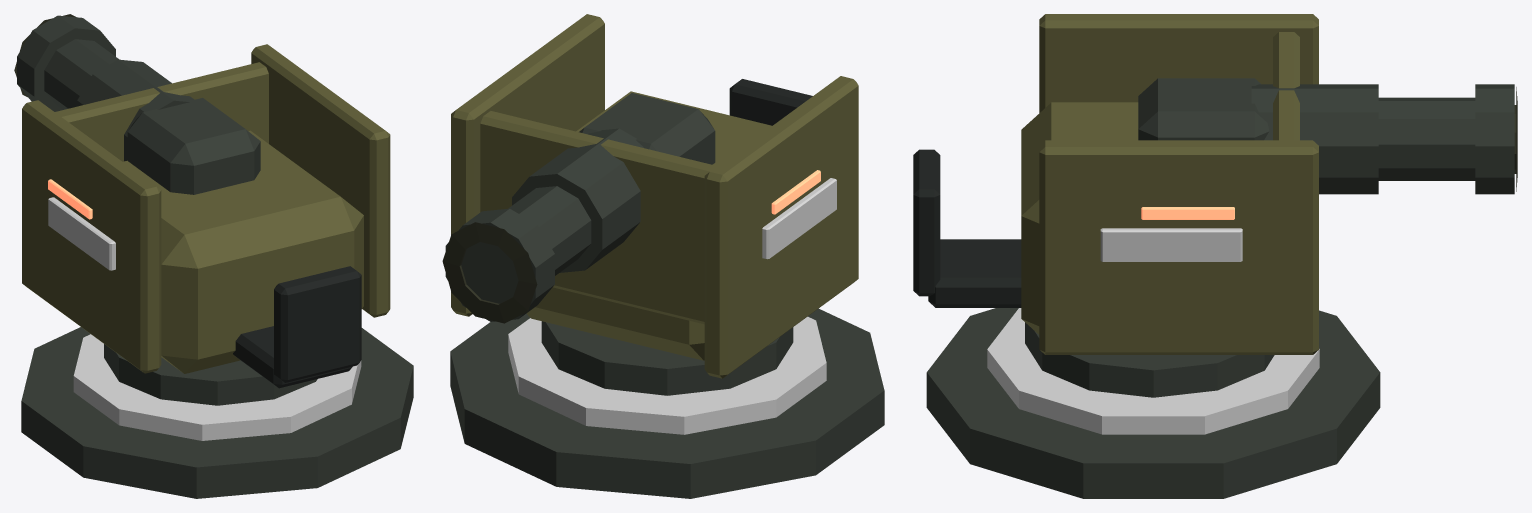
File: cannon.glb
3 views of the same model, side by side, from view 1: azimuth 30°, elevation 25°; view 2: azimuth 150°, elevation 25°; view 3: azimuth 270°, elevation 25° (orthographic). The views are drawn at different scales.
Visible parts, largest first — view 1: CannonTurretYaw_Surface, CannonPedestal_Surface, CannonBarrelRecoil_Surface, CannonBarrelPitch_Surface, Cannon_owner_strip; view 2: CannonTurretYaw_Surface, CannonPedestal_Surface, CannonBarrelRecoil_Surface, CannonBarrelPitch_Surface, Cannon_owner_strip; view 3: CannonTurretYaw_Surface, CannonPedestal_Surface, CannonBarrelRecoil_Surface, CannonBarrelPitch_Surface, Cannon_owner_strip.001.
Boxes of the visible parts, left/top/right/bottom form: CannonTurretYaw_Surface: left=22, top=44, right=390, bottom=388; CannonPedestal_Surface: left=21, top=327, right=413, bottom=498; CannonBarrelRecoil_Surface: left=14, top=14, right=194, bottom=161; CannonBarrelPitch_Surface: left=127, top=98, right=260, bottom=194; Cannon_owner_strip: left=48, top=179, right=92, bottom=219; CannonTurretYaw_Surface: left=451, top=14, right=858, bottom=378; CannonPedestal_Surface: left=450, top=308, right=884, bottom=498; CannonBarrelRecoil_Surface: left=442, top=128, right=643, bottom=323; CannonBarrelPitch_Surface: left=579, top=93, right=715, bottom=164; Cannon_owner_strip: left=771, top=170, right=820, bottom=214; CannonTurretYaw_Surface: left=913, top=14, right=1318, bottom=354; CannonPedestal_Surface: left=926, top=308, right=1380, bottom=498; CannonBarrelRecoil_Surface: left=1251, top=84, right=1517, bottom=194; CannonBarrelPitch_Surface: left=1138, top=78, right=1269, bottom=140; Cannon_owner_strip.001: left=1141, top=207, right=1234, bottom=219.
Bounding box in the file's own units: 2.85 × 2.39 × 4.
